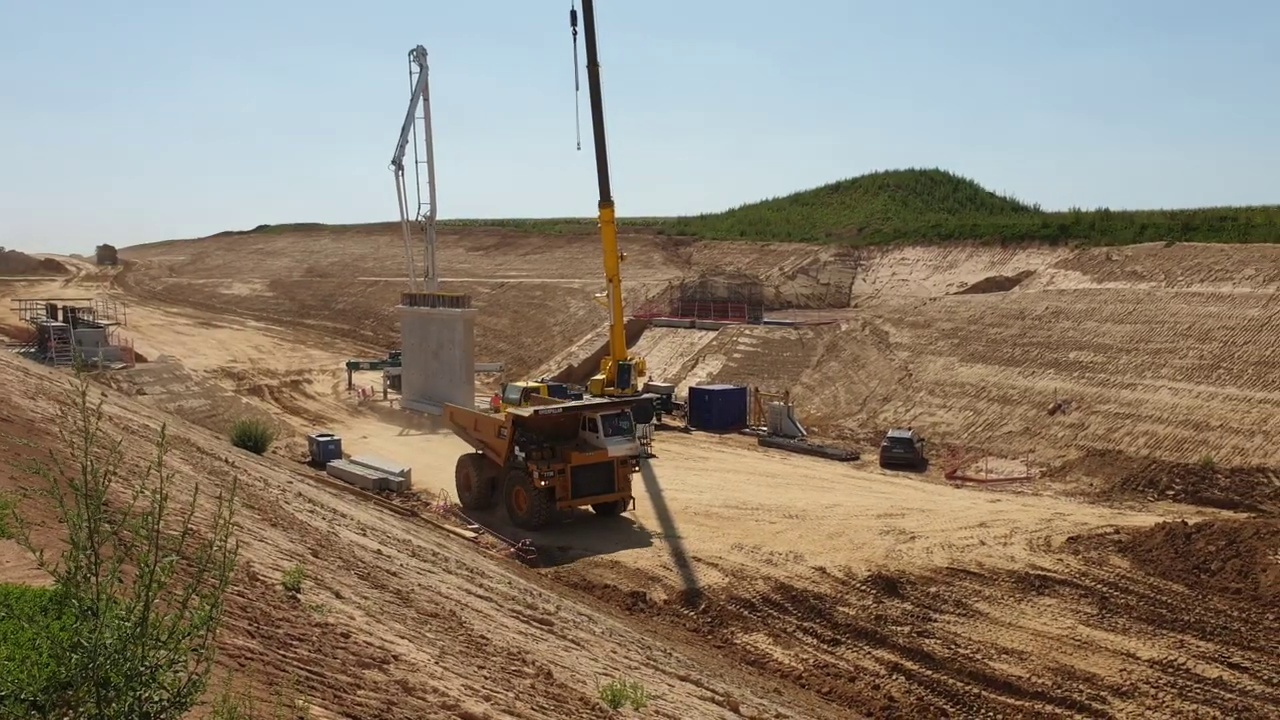crane: (504, 2, 666, 457)
truck: (440, 379, 660, 531)
